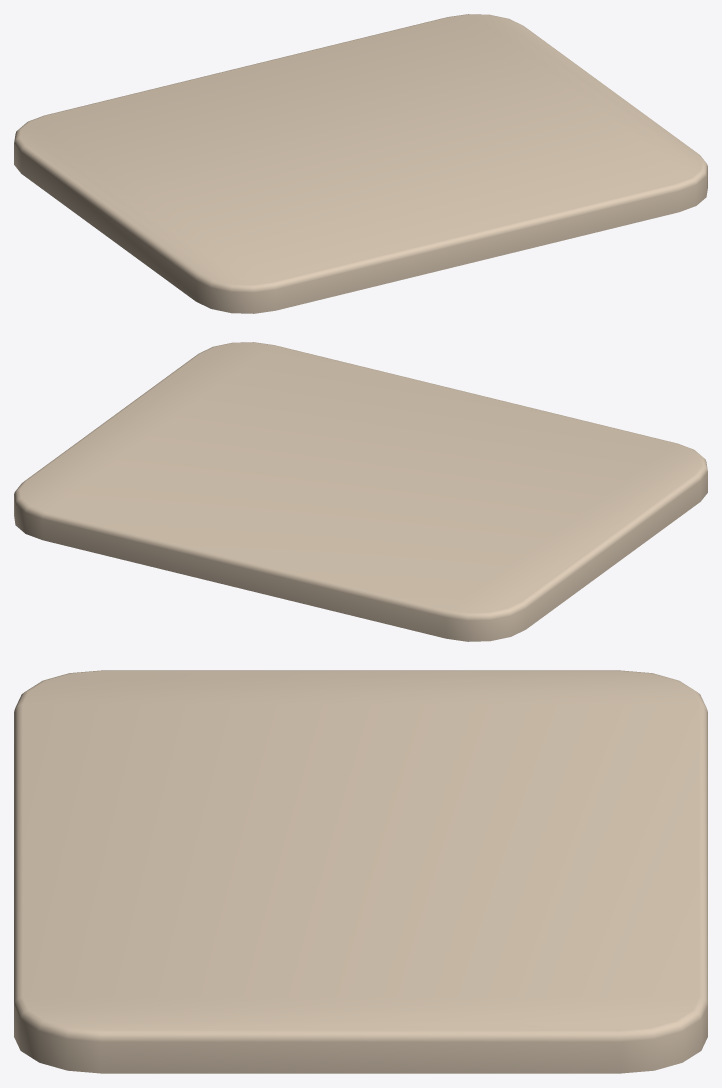
The model's file is floor_base.glb.
The picture shows the model from 3 angles, top to bottom: view 1: azimuth 30°, elevation 25°; view 2: azimuth 150°, elevation 25°; view 3: azimuth 270°, elevation 25°; orthographic projection. The views are drawn at different scales.
Parts seen in each view (by area): view 1: floor_base; view 2: floor_base; view 3: floor_base.
Part boxes in pixels (x1=…): floor_base: x1=14, y1=14, x2=707, y2=313; floor_base: x1=14, y1=342, x2=707, y2=641; floor_base: x1=14, y1=670, x2=707, y2=1073.
Bounding box in the file's own units: 10 × 0.5 × 8.
